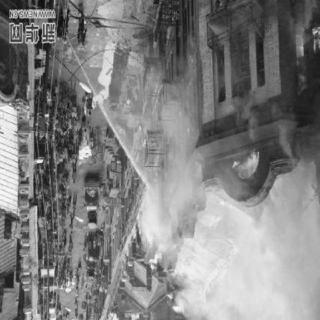Fire: (181, 144, 320, 320)
